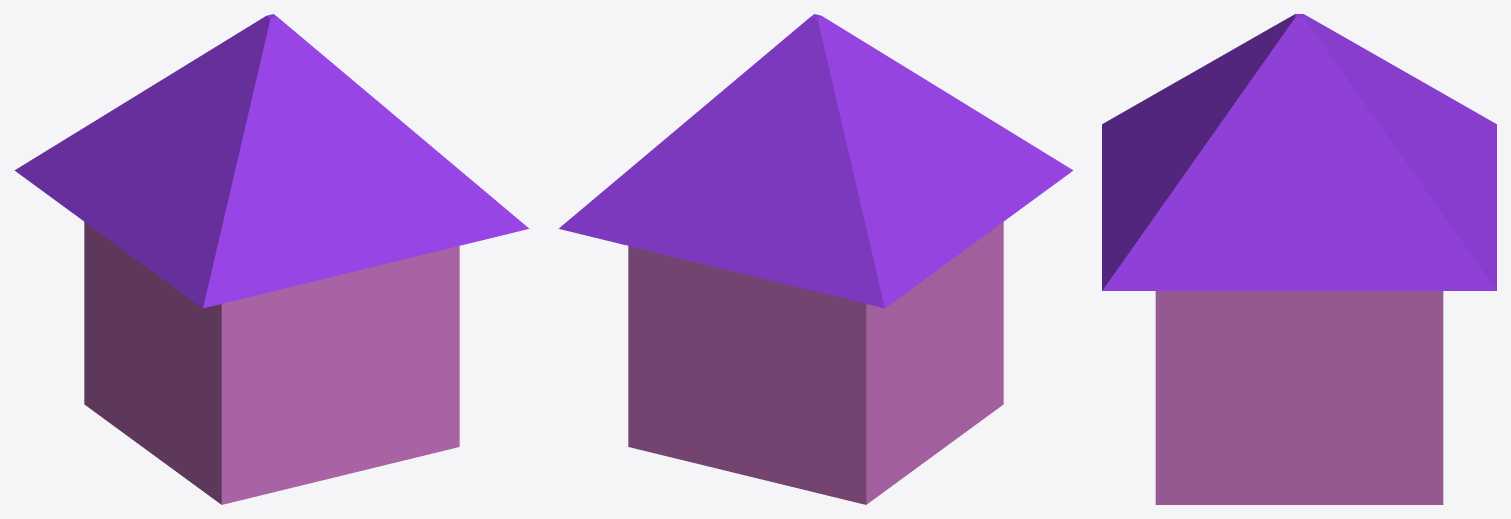
The picture shows the model from 3 angles, left to right: view 1: azimuth 30°, elevation 25°; view 2: azimuth 150°, elevation 25°; view 3: azimuth 270°, elevation 25°; orthographic projection. The views are drawn at different scales.
Parts seen in each view (by area): view 1: Cube; view 2: Cube; view 3: Cube.
Boxes of the visible parts, x1=… form: Cube: x1=14, y1=14, x2=529, y2=504; Cube: x1=558, y1=14, x2=1073, y2=504; Cube: x1=1102, y1=14, x2=1496, y2=504.
Size of the model in its own units: 275 by 329 by 275.
